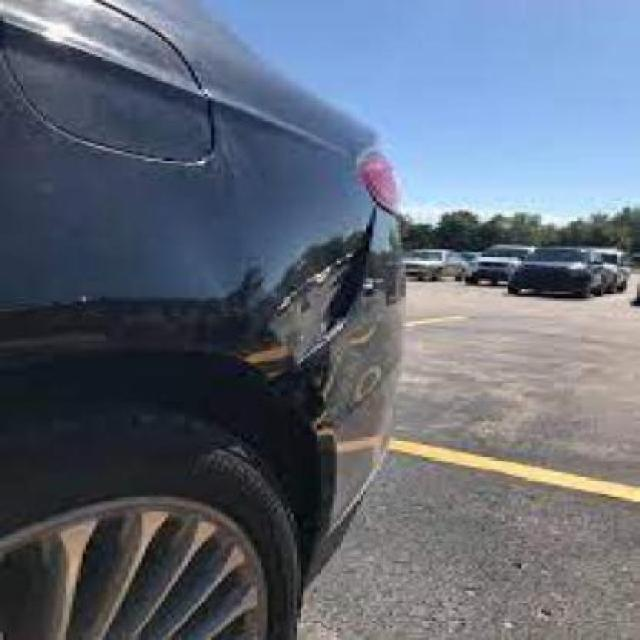quaterpanel-dent: (255, 200, 374, 366)
